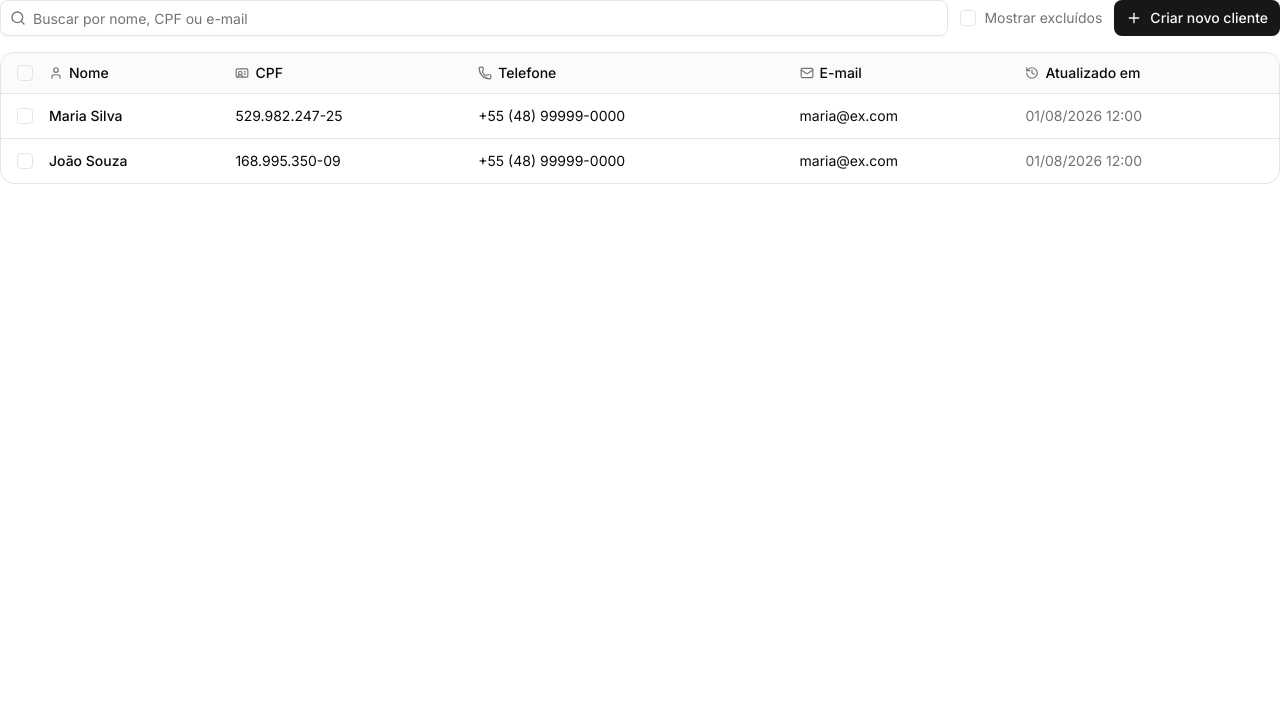
ClientesTable › clicar na linha abre o drawer do cliente
Click the text "Maria Silva" at (86, 115), box [49,106,123,124]
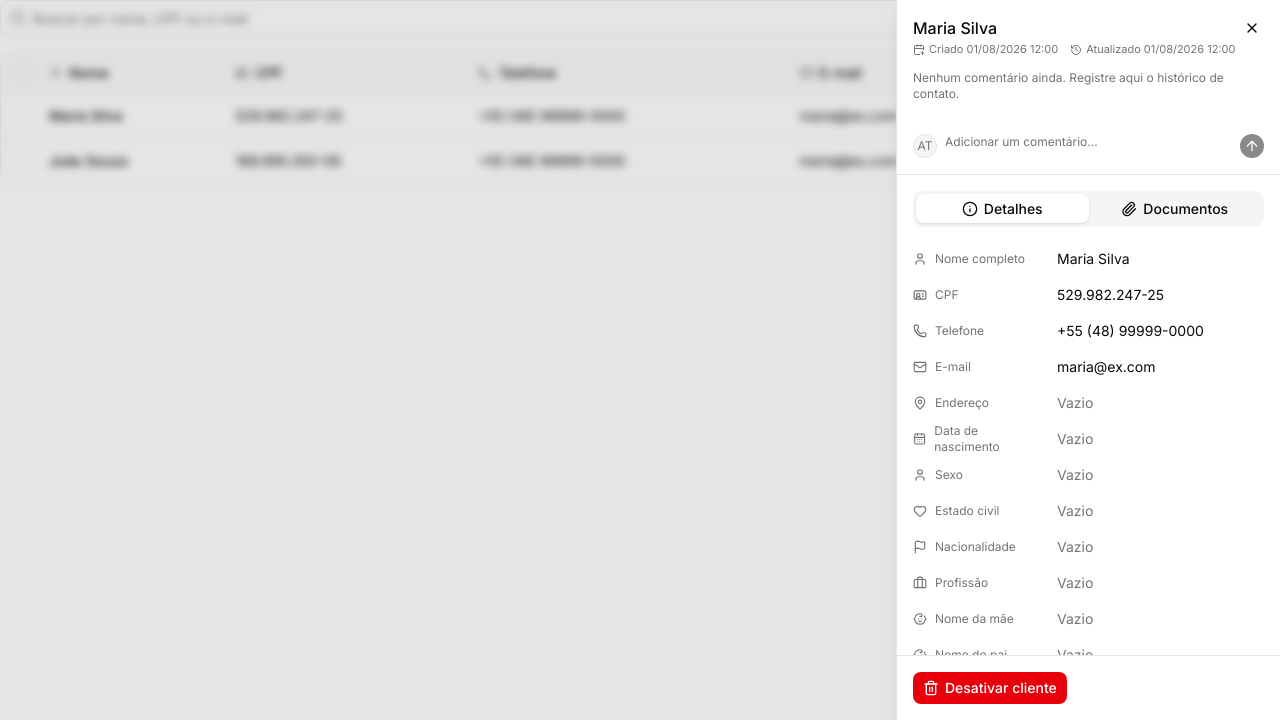
Expected: the button "Desativar cliente" is shown, [913,672,1067,704]
Expected: the button named "Editar CPF" reads "529.982.247-25", [1049,279,1264,311]
